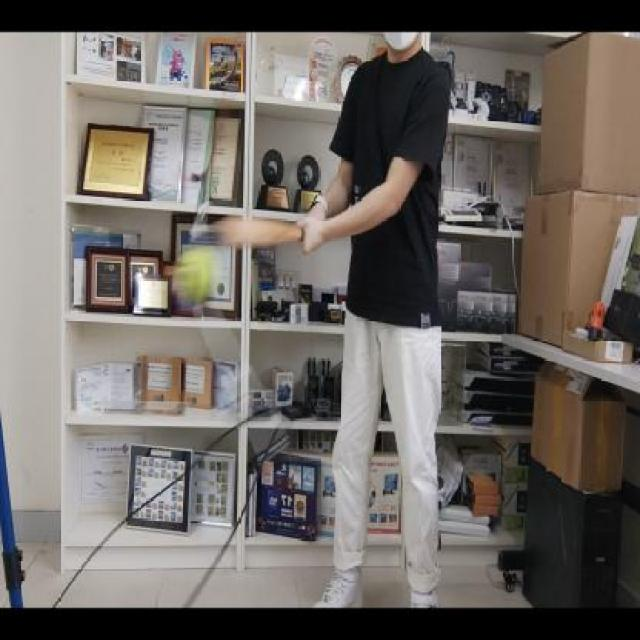baseball: (171, 241, 220, 314)
